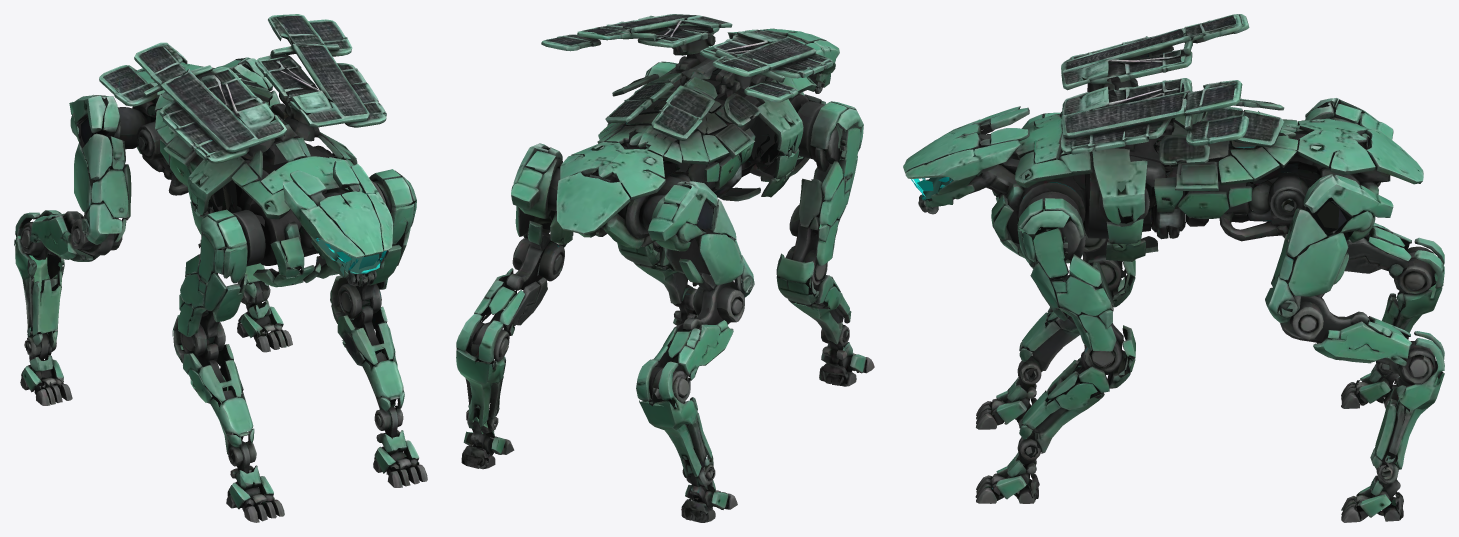
3 views of the same model, side by side, from view 1: azimuth 30°, elevation 25°; view 2: azimuth 150°, elevation 25°; view 3: azimuth 270°, elevation 25° (orthographic). The views are drawn at different scales.
Visible parts, largest first — view 1: part_006_DORSAL_MODULE, part_002_HEAD_SENSOR, part_019_DORSAL_MODULE, part_011_AFT_REACTOR, part_007_HEAD_SENSOR, part_018_DORSAL_MODULE, part_012_REAR_SHIN_L, part_010_FRONT_THIGH_L, part_025_FRONT_PAW_L, part_001_REAR_PAW_R, part_022_FRONT_PAW_R, part_016_FRONT_THIGH_R (+39 smaller); view 2: part_001_REAR_PAW_R, part_013_AFT_REACTOR, part_011_AFT_REACTOR, part_012_REAR_SHIN_L, part_006_DORSAL_MODULE, part_045_AFT_REACTOR, part_020_REAR_THIGH_L, part_018_DORSAL_MODULE, part_014_AFT_REACTOR, part_042_DORSAL_MODULE, part_026_REAR_THIGH_R, part_010_FRONT_THIGH_L (+32 smaller); view 3: part_008_FRONT_THIGH_R, part_001_REAR_PAW_R, part_019_DORSAL_MODULE, part_002_HEAD_SENSOR, part_006_DORSAL_MODULE, part_005_DORSAL_MODULE, part_000_DORSAL_MODULE, part_014_AFT_REACTOR, part_013_AFT_REACTOR, part_039_REAR_THIGH_R, part_012_REAR_SHIN_L, part_050_DORSAL_MODULE (+39 smaller).
Boxes of the visible parts, <box> form: part_006_DORSAL_MODULE: <box>143,65,286,163</box>; part_002_HEAD_SENSOR: <box>282,160,393,286</box>; part_019_DORSAL_MODULE: <box>268,14,369,127</box>; part_011_AFT_REACTOR: <box>69,94,122,244</box>; part_007_HEAD_SENSOR: <box>300,184,383,284</box>; part_018_DORSAL_MODULE: <box>185,209,265,283</box>; part_012_REAR_SHIN_L: <box>14,210,93,347</box>; part_010_FRONT_THIGH_L: <box>180,272,247,391</box>; part_025_FRONT_PAW_L: <box>188,344,254,454</box>; part_001_REAR_PAW_R: <box>237,280,292,352</box>; part_022_FRONT_PAW_R: <box>337,315,404,411</box>; part_016_FRONT_THIGH_R: <box>337,244,401,354</box>; part_001_REAR_PAW_R: <box>456,277,547,469</box>; part_013_AFT_REACTOR: <box>560,125,728,199</box>; part_011_AFT_REACTOR: <box>647,181,754,297</box>; part_012_REAR_SHIN_L: <box>636,355,706,476</box>; part_006_DORSAL_MODULE: <box>699,29,833,82</box>; part_045_AFT_REACTOR: <box>556,172,630,234</box>; part_020_REAR_THIGH_L: <box>668,258,744,358</box>; part_018_DORSAL_MODULE: <box>797,101,863,200</box>; part_014_AFT_REACTOR: <box>511,143,562,218</box>; part_042_DORSAL_MODULE: <box>651,76,717,140</box>; part_026_REAR_THIGH_R: <box>505,221,566,293</box>; part_010_FRONT_THIGH_L: <box>785,163,832,290</box>; part_008_FRONT_THIGH_R: <box>1022,198,1143,351</box>; part_001_REAR_PAW_R: <box>1317,316,1444,522</box>; part_019_DORSAL_MODULE: <box>1061,80,1242,138</box>; part_002_HEAD_SENSOR: <box>905,106,1029,212</box>; part_006_DORSAL_MODULE: <box>1061,27,1193,90</box>; part_005_DORSAL_MODULE: <box>1177,160,1390,241</box>; part_000_DORSAL_MODULE: <box>1085,139,1314,252</box>; part_014_AFT_REACTOR: <box>1303,174,1393,242</box>; part_013_AFT_REACTOR: <box>1258,118,1375,175</box>; part_039_REAR_THIGH_R: <box>1265,231,1348,322</box>; part_012_REAR_SHIN_L: <box>1382,237,1444,332</box>; part_050_DORSAL_MODULE: <box>1091,148,1147,224</box>.
Size of the model in its own units: 0.5654 by 0.8237 by 0.9989.
1 material, 1 textured.
